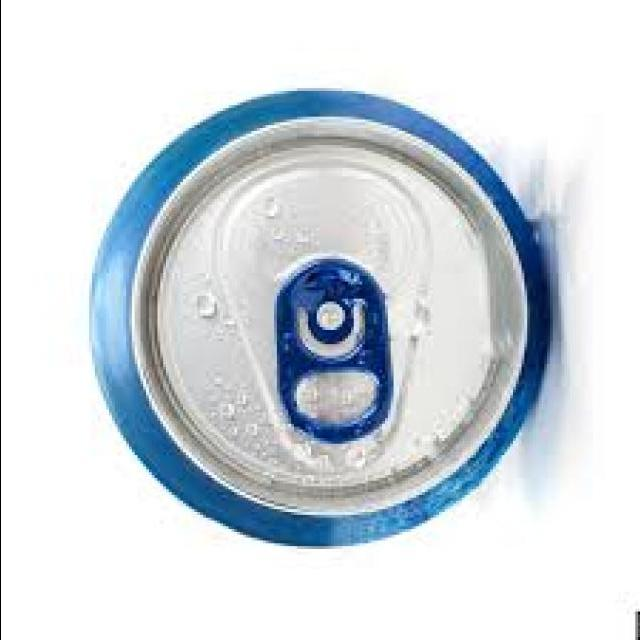can: (88, 88, 549, 546)
